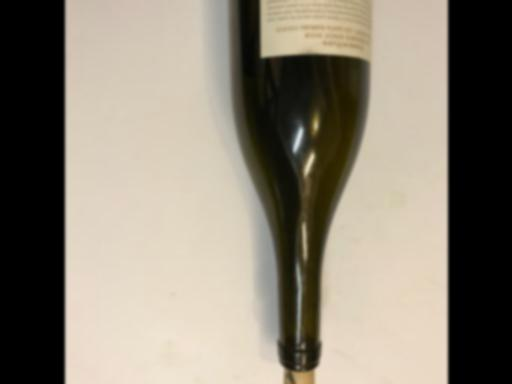alcohol: (231, 0, 372, 384)
glass: (231, 0, 372, 384)
sodocalcique: (231, 0, 372, 384)
